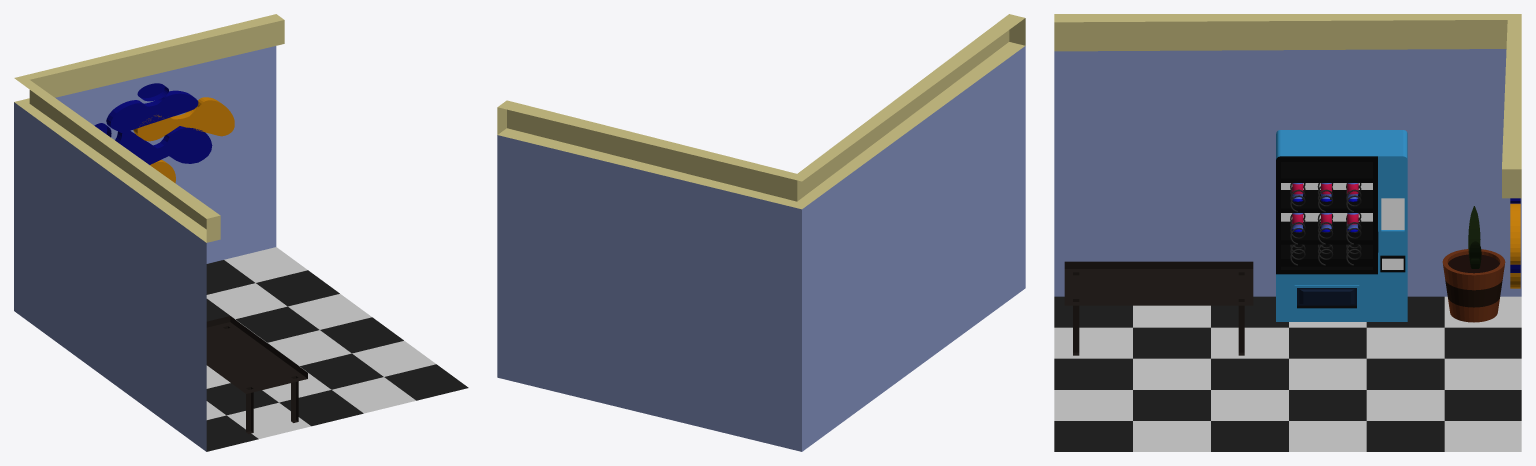
The model's file is Allanim0009.obj.
3 renders of one model, left to right at view 1: azimuth 30°, elevation 25°; view 2: azimuth 150°, elevation 25°; view 3: azimuth 270°, elevation 25°, orthographic. The views are drawn at different scales.
Parts seen in each view (by area): view 1: ruangan_Cube.003, meja_Cube.004, logo.001_Circle.019, logo_Circle.006, logo.005_Circle.023; view 2: ruangan_Cube.003; view 3: ruangan_Cube.003, vending_machine_Cube.001, meja_Cube.004, pot_bunga_Cylinder, per_second\_Spiral.010, Plane.007, logo_Circle.006.
Part boxes in pixels (box(x1,y1,x2,y2)): ruangan_Cube.003: box(14, 14, 468, 451); meja_Cube.004: box(206, 316, 307, 433); logo.001_Circle.019: box(115, 126, 212, 164); logo_Circle.006: box(133, 97, 234, 141); logo.005_Circle.023: box(106, 90, 198, 133); ruangan_Cube.003: box(497, 14, 1025, 451); ruangan_Cube.003: box(1054, 14, 1521, 451); vending_machine_Cube.001: box(1276, 130, 1407, 321); meja_Cube.004: box(1064, 261, 1253, 355); pot_bunga_Cylinder: box(1442, 249, 1505, 322); per_second\_Spiral.010: box(1290, 183, 1361, 265); Plane.007: box(1468, 206, 1481, 268); logo_Circle.006: box(1510, 203, 1520, 264).
Bounding box in the file's own units: 11.73 × 9.95 × 14.9.
